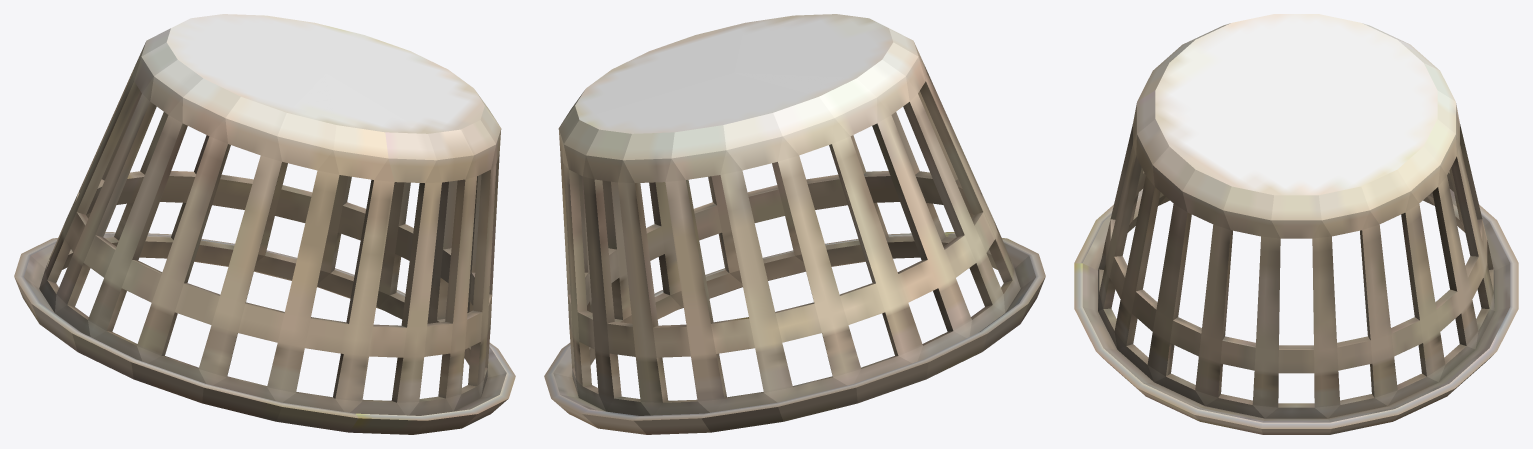
Rendered from WHITE LAUNDRY BASKET.fbx.
3 renders of one model, left to right at view 1: azimuth 30°, elevation 25°; view 2: azimuth 150°, elevation 25°; view 3: azimuth 270°, elevation 25°, orthographic. The views are drawn at different scales.
Visible parts, largest first — view 1: WHITE_LAUNDRY_BASKET; view 2: WHITE_LAUNDRY_BASKET; view 3: WHITE_LAUNDRY_BASKET.
Boxes of the visible parts, <box> form: WHITE_LAUNDRY_BASKET: <box>14,14,515,434</box>; WHITE_LAUNDRY_BASKET: <box>544,14,1045,434</box>; WHITE_LAUNDRY_BASKET: <box>1074,14,1518,434</box>.
Size of the model in its own units: 40.57 by 31.83 by 42.
